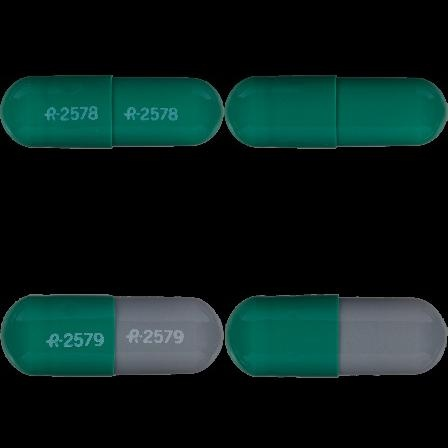42291-330: (0, 0, 224, 224)
